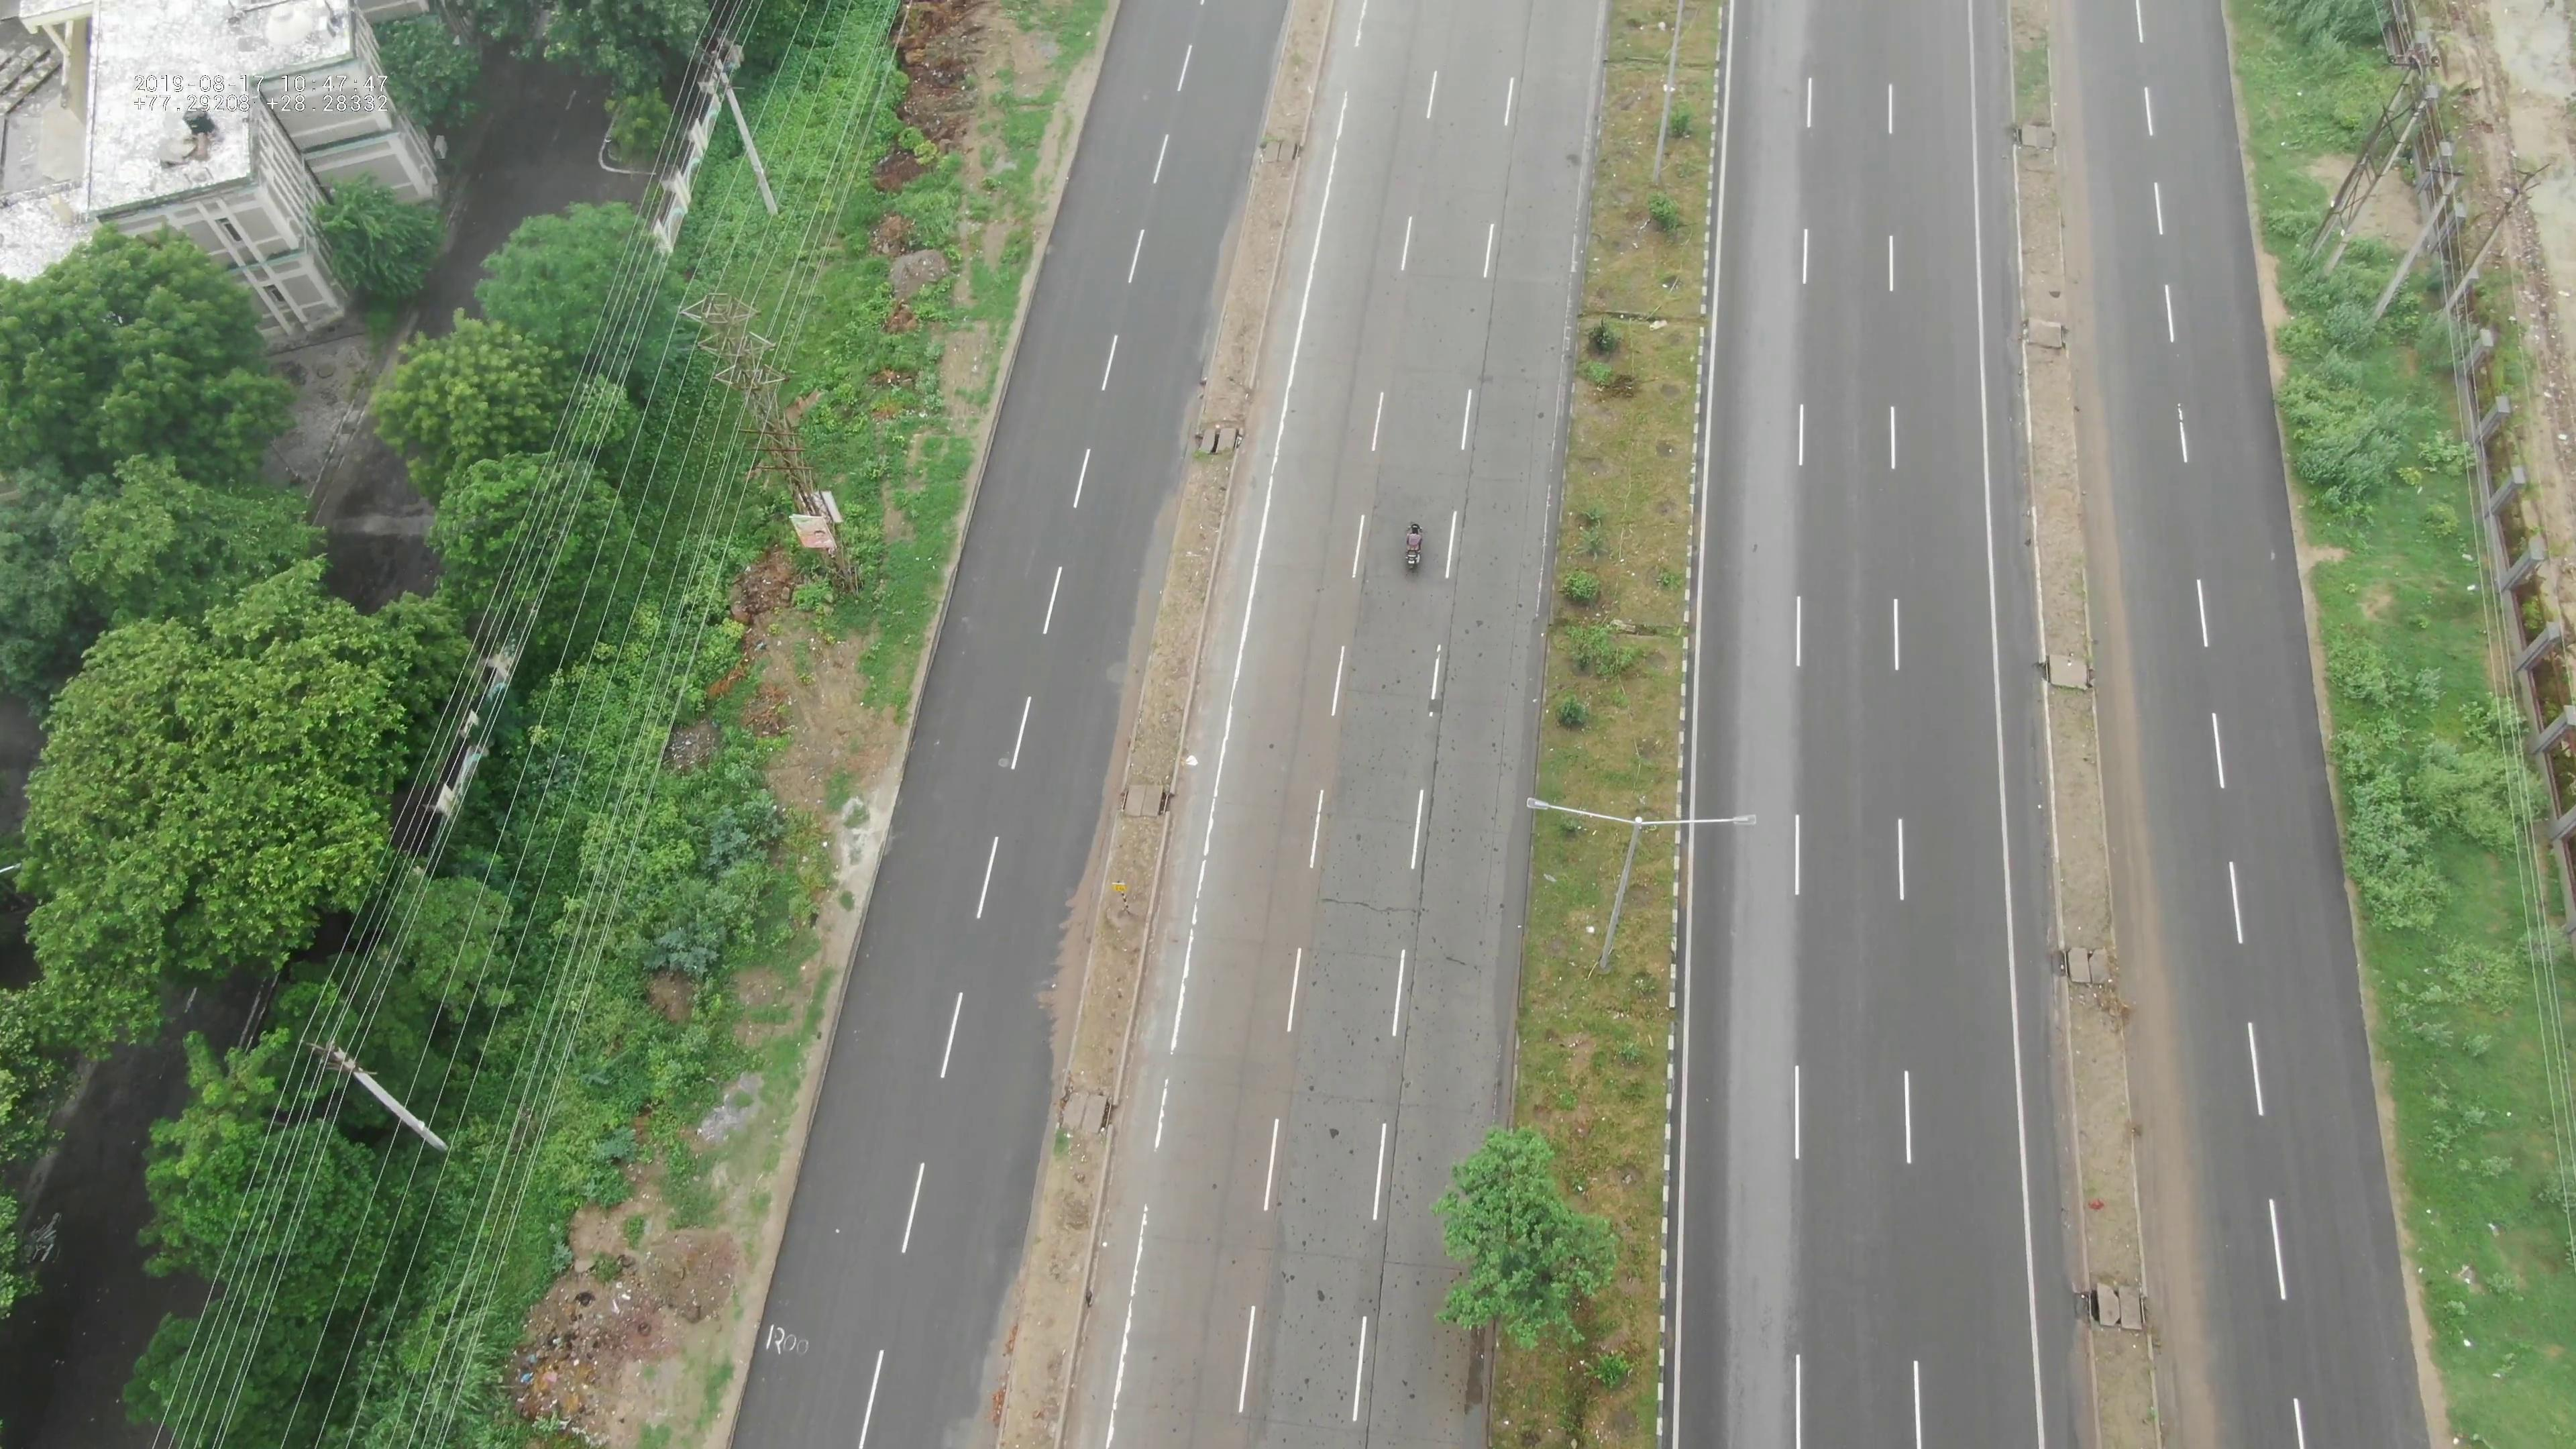Hair_cracks: (1313, 860, 1507, 980)
